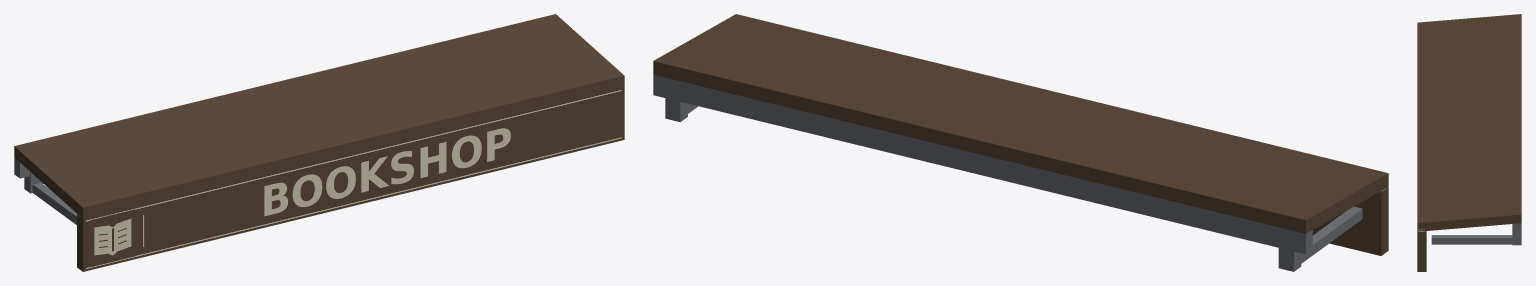
Rendered from building-business-bookshop.glb.
The picture shows the model from 3 angles, left to right: view 1: azimuth 30°, elevation 25°; view 2: azimuth 150°, elevation 25°; view 3: azimuth 270°, elevation 25°; orthographic projection. The views are drawn at different scales.
Visible parts, largest first — view 1: business-bookshop; view 2: business-bookshop; view 3: business-bookshop.
Part boxes in pixels (x1,y1,x2,y2): business-bookshop: [14, 14, 624, 271]; business-bookshop: [653, 14, 1388, 271]; business-bookshop: [1417, 14, 1521, 271].
Size of the model in its own units: 3 by 0.4 by 0.66.
4 materials, 1 textured.
